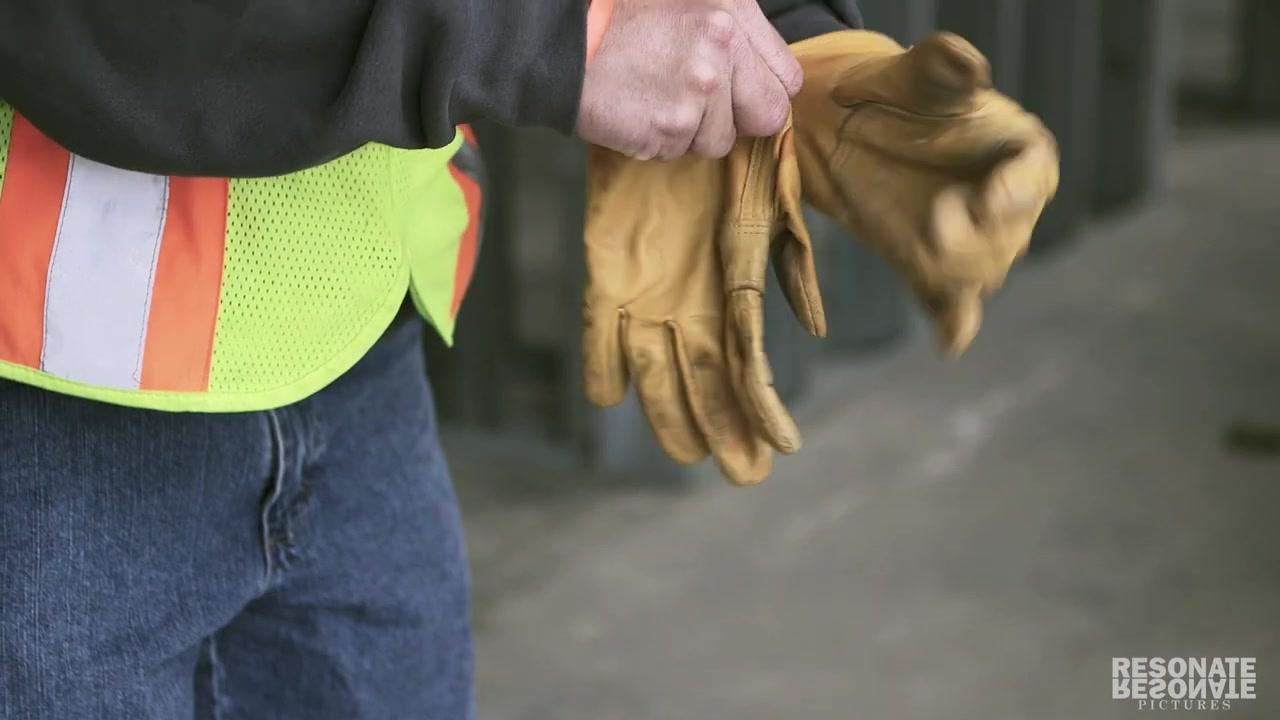vest: (3, 100, 487, 414)
